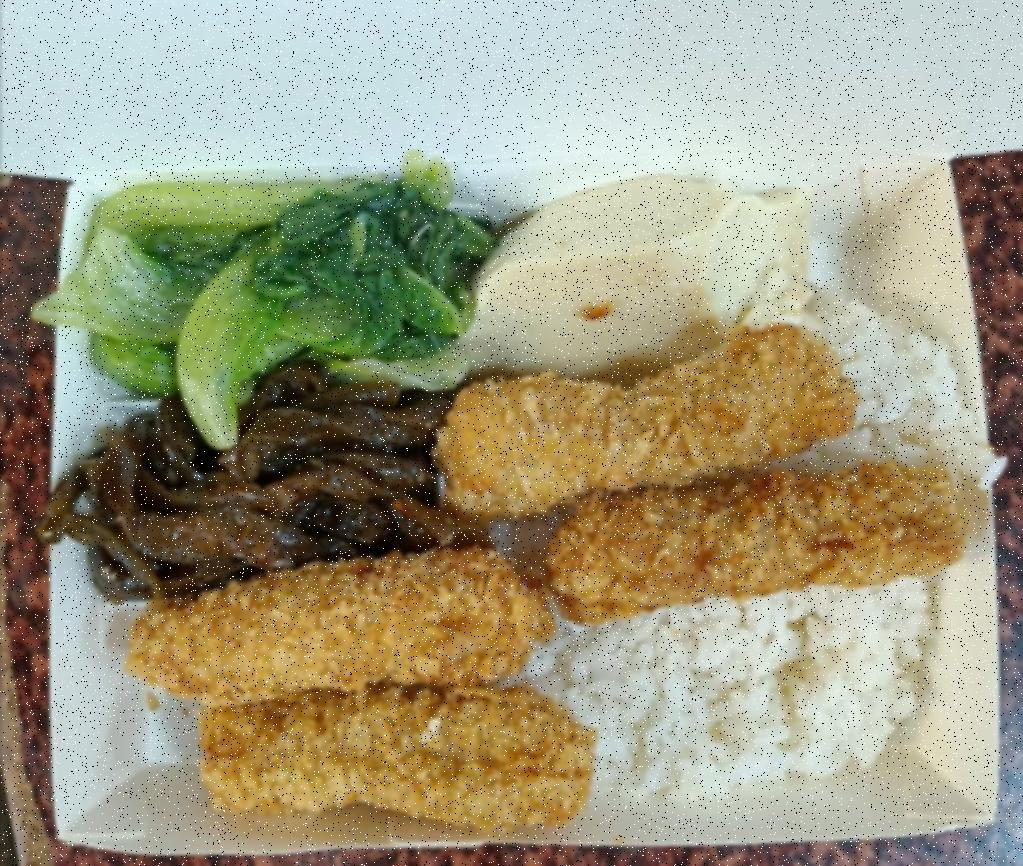box: (23, 135, 1010, 860)
fried spanish mackerel: (435, 324, 966, 618), (123, 545, 594, 834)
side dish: (87, 180, 470, 378), (456, 184, 818, 364), (70, 401, 435, 569)
white rice: (486, 315, 947, 793)
